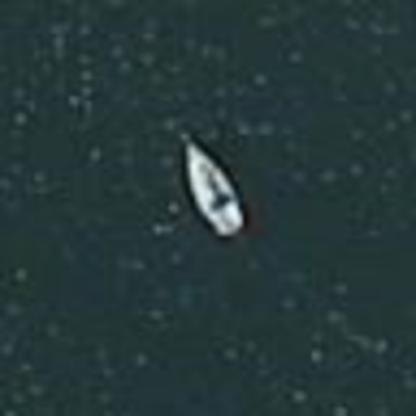ship: (178, 133, 252, 244)
